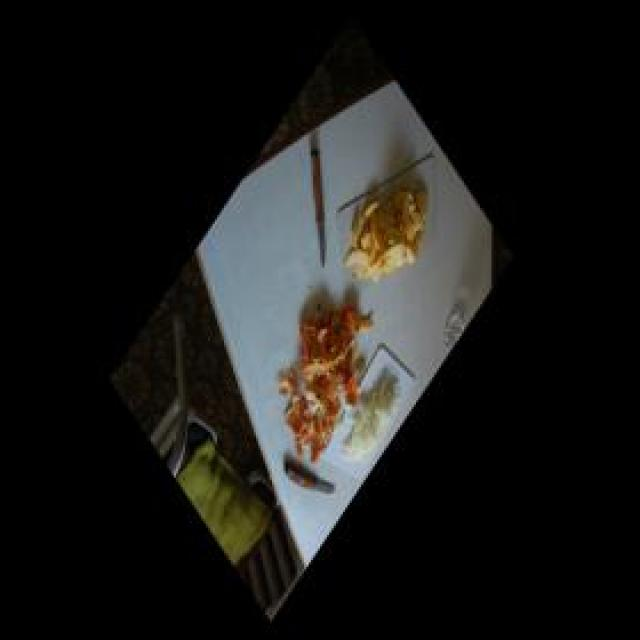knife: (300, 128, 332, 281)
